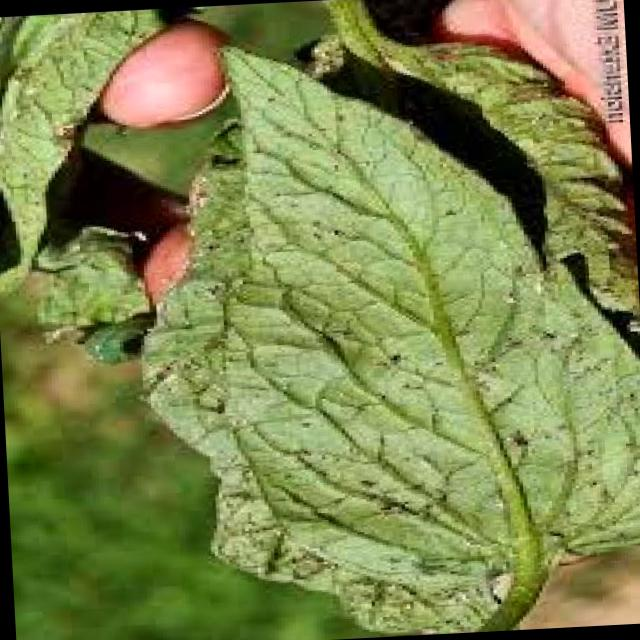aphid: (317, 102, 353, 126), (499, 426, 535, 449), (431, 199, 467, 222), (292, 220, 325, 243), (344, 470, 376, 492), (279, 441, 318, 458), (494, 332, 527, 352), (285, 412, 314, 432), (575, 472, 604, 491), (376, 346, 404, 364), (296, 212, 324, 229)
